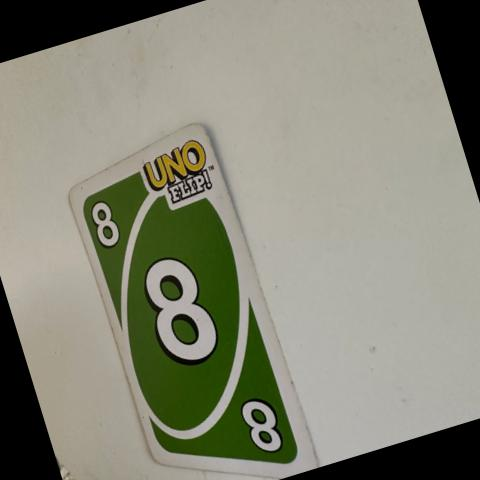reverse_green: (140, 259, 220, 364), (241, 399, 282, 454), (90, 201, 121, 249)
